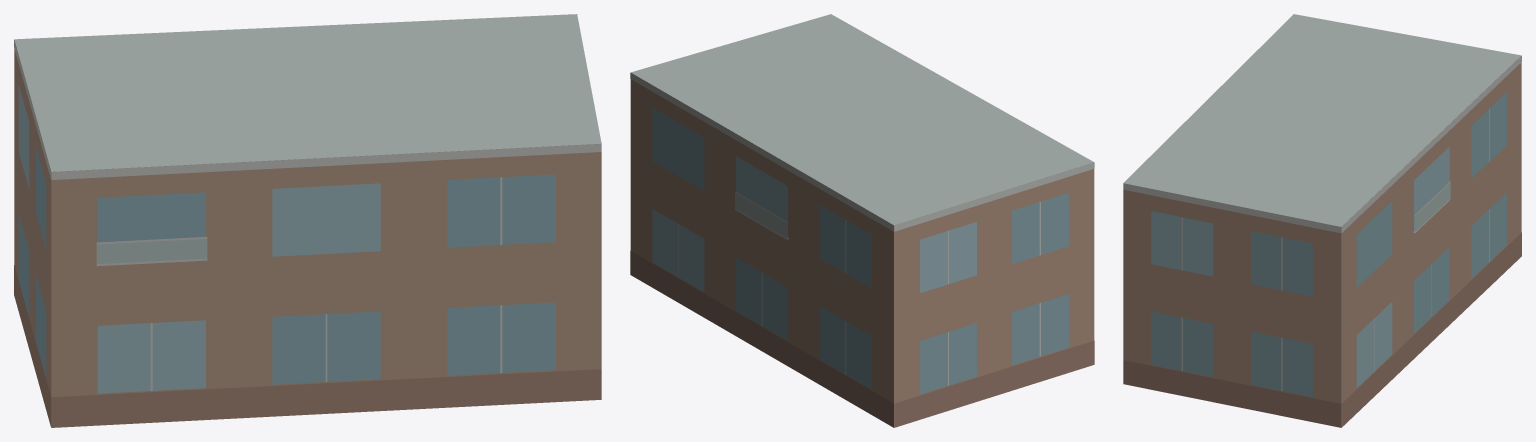
The model's file is survey-upis-32630121.glb.
3 views of the same model, side by side, from view 1: azimuth 30°, elevation 25°; view 2: azimuth 150°, elevation 25°; view 3: azimuth 270°, elevation 25° (orthographic). The views are drawn at different scales.
Visible parts, largest first — view 1: survey-upis-32630121.tmp; view 2: survey-upis-32630121.tmp; view 3: survey-upis-32630121.tmp.
Part boxes in pixels (x1,y1,x2,y2): survey-upis-32630121.tmp: (14, 14, 601, 427); survey-upis-32630121.tmp: (630, 14, 1094, 427); survey-upis-32630121.tmp: (1123, 14, 1521, 427).
Bounding box in the file's own units: 17.29 × 7.6 × 13.67.
